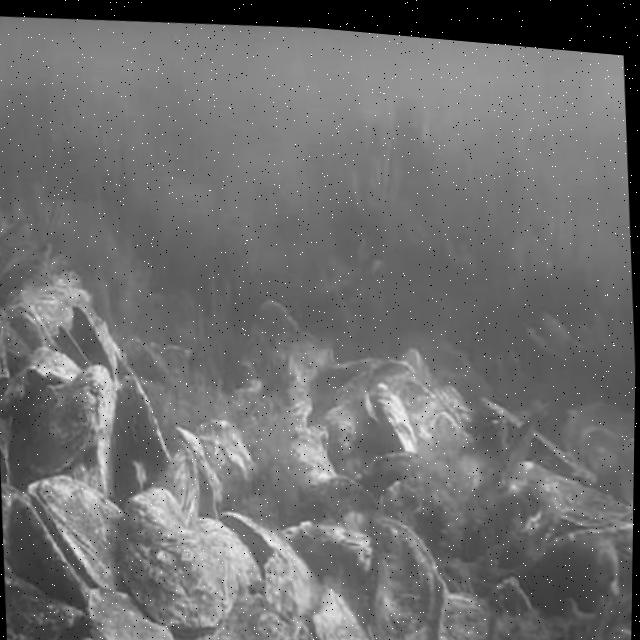Oyster-Indeterminate: (123, 492, 242, 626), (11, 365, 117, 484), (25, 483, 124, 593), (373, 509, 444, 640), (9, 492, 87, 610), (521, 467, 633, 528), (5, 573, 84, 640), (154, 451, 202, 524), (86, 599, 162, 640), (312, 587, 361, 640)
Oyster-Open: (54, 296, 116, 387)
